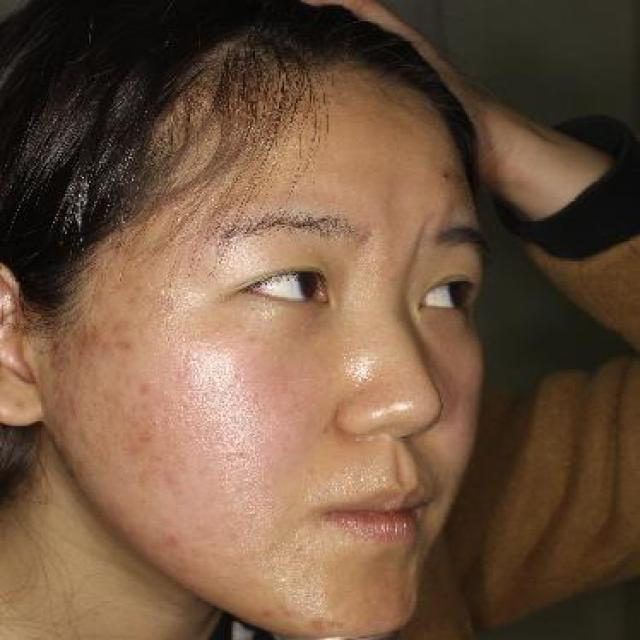Acne: (301, 606, 329, 632)
Blackheads: (436, 169, 454, 186)
Whiteheads: (286, 538, 306, 554)
